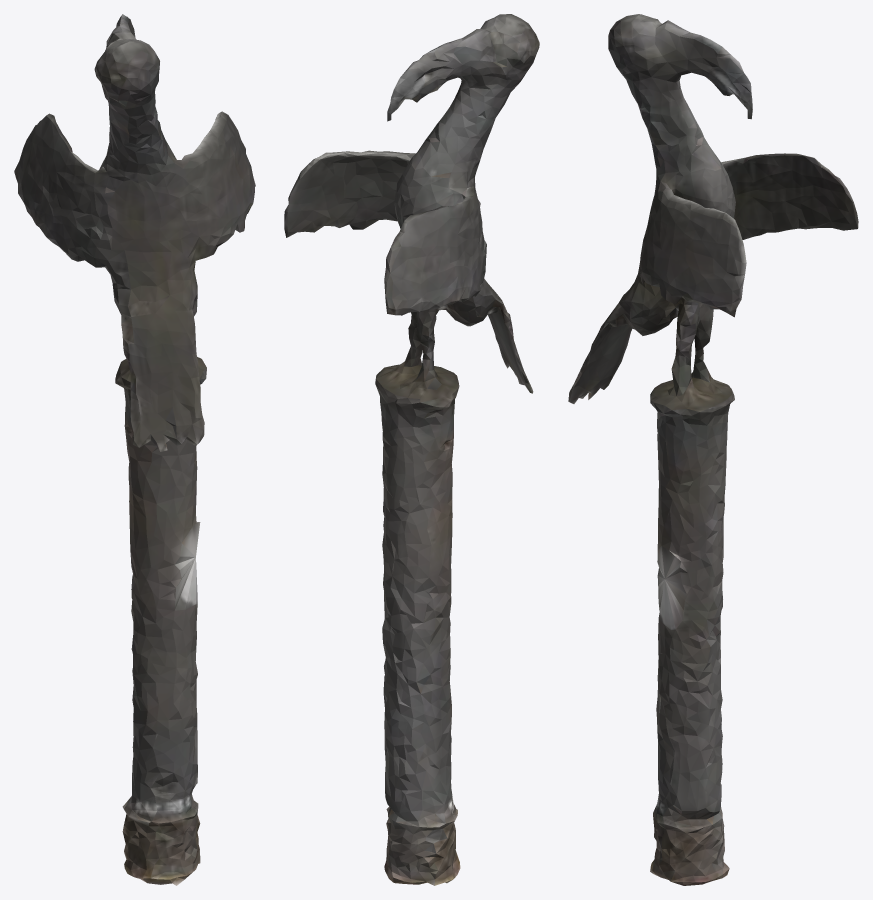
Rendered from preview.glb.
The picture shows the model from 3 angles, left to right: view 1: azimuth 30°, elevation 25°; view 2: azimuth 150°, elevation 25°; view 3: azimuth 270°, elevation 25°; orthographic projection. The views are drawn at different scales.
Visible parts, largest first — view 1: Object_2; view 2: Object_2; view 3: Object_2.
Boxes of the visible parts, left/top/right/bottom form: Object_2: left=14, top=14, right=255, bottom=885; Object_2: left=284, top=14, right=539, bottom=885; Object_2: left=568, top=14, right=858, bottom=885.
Size of the model in its own units: 8.06 by 32.84 by 10.39.
1 material, 1 textured.
